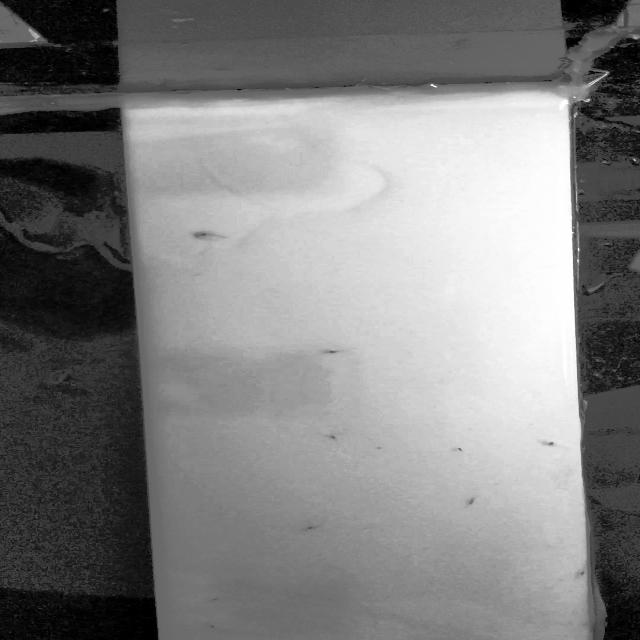shrimp: (180, 228, 240, 244), (452, 490, 486, 512), (527, 430, 562, 451), (196, 588, 232, 608), (314, 344, 355, 359), (445, 440, 477, 459), (202, 618, 230, 639), (289, 522, 333, 534), (314, 429, 346, 443), (573, 564, 588, 577)
